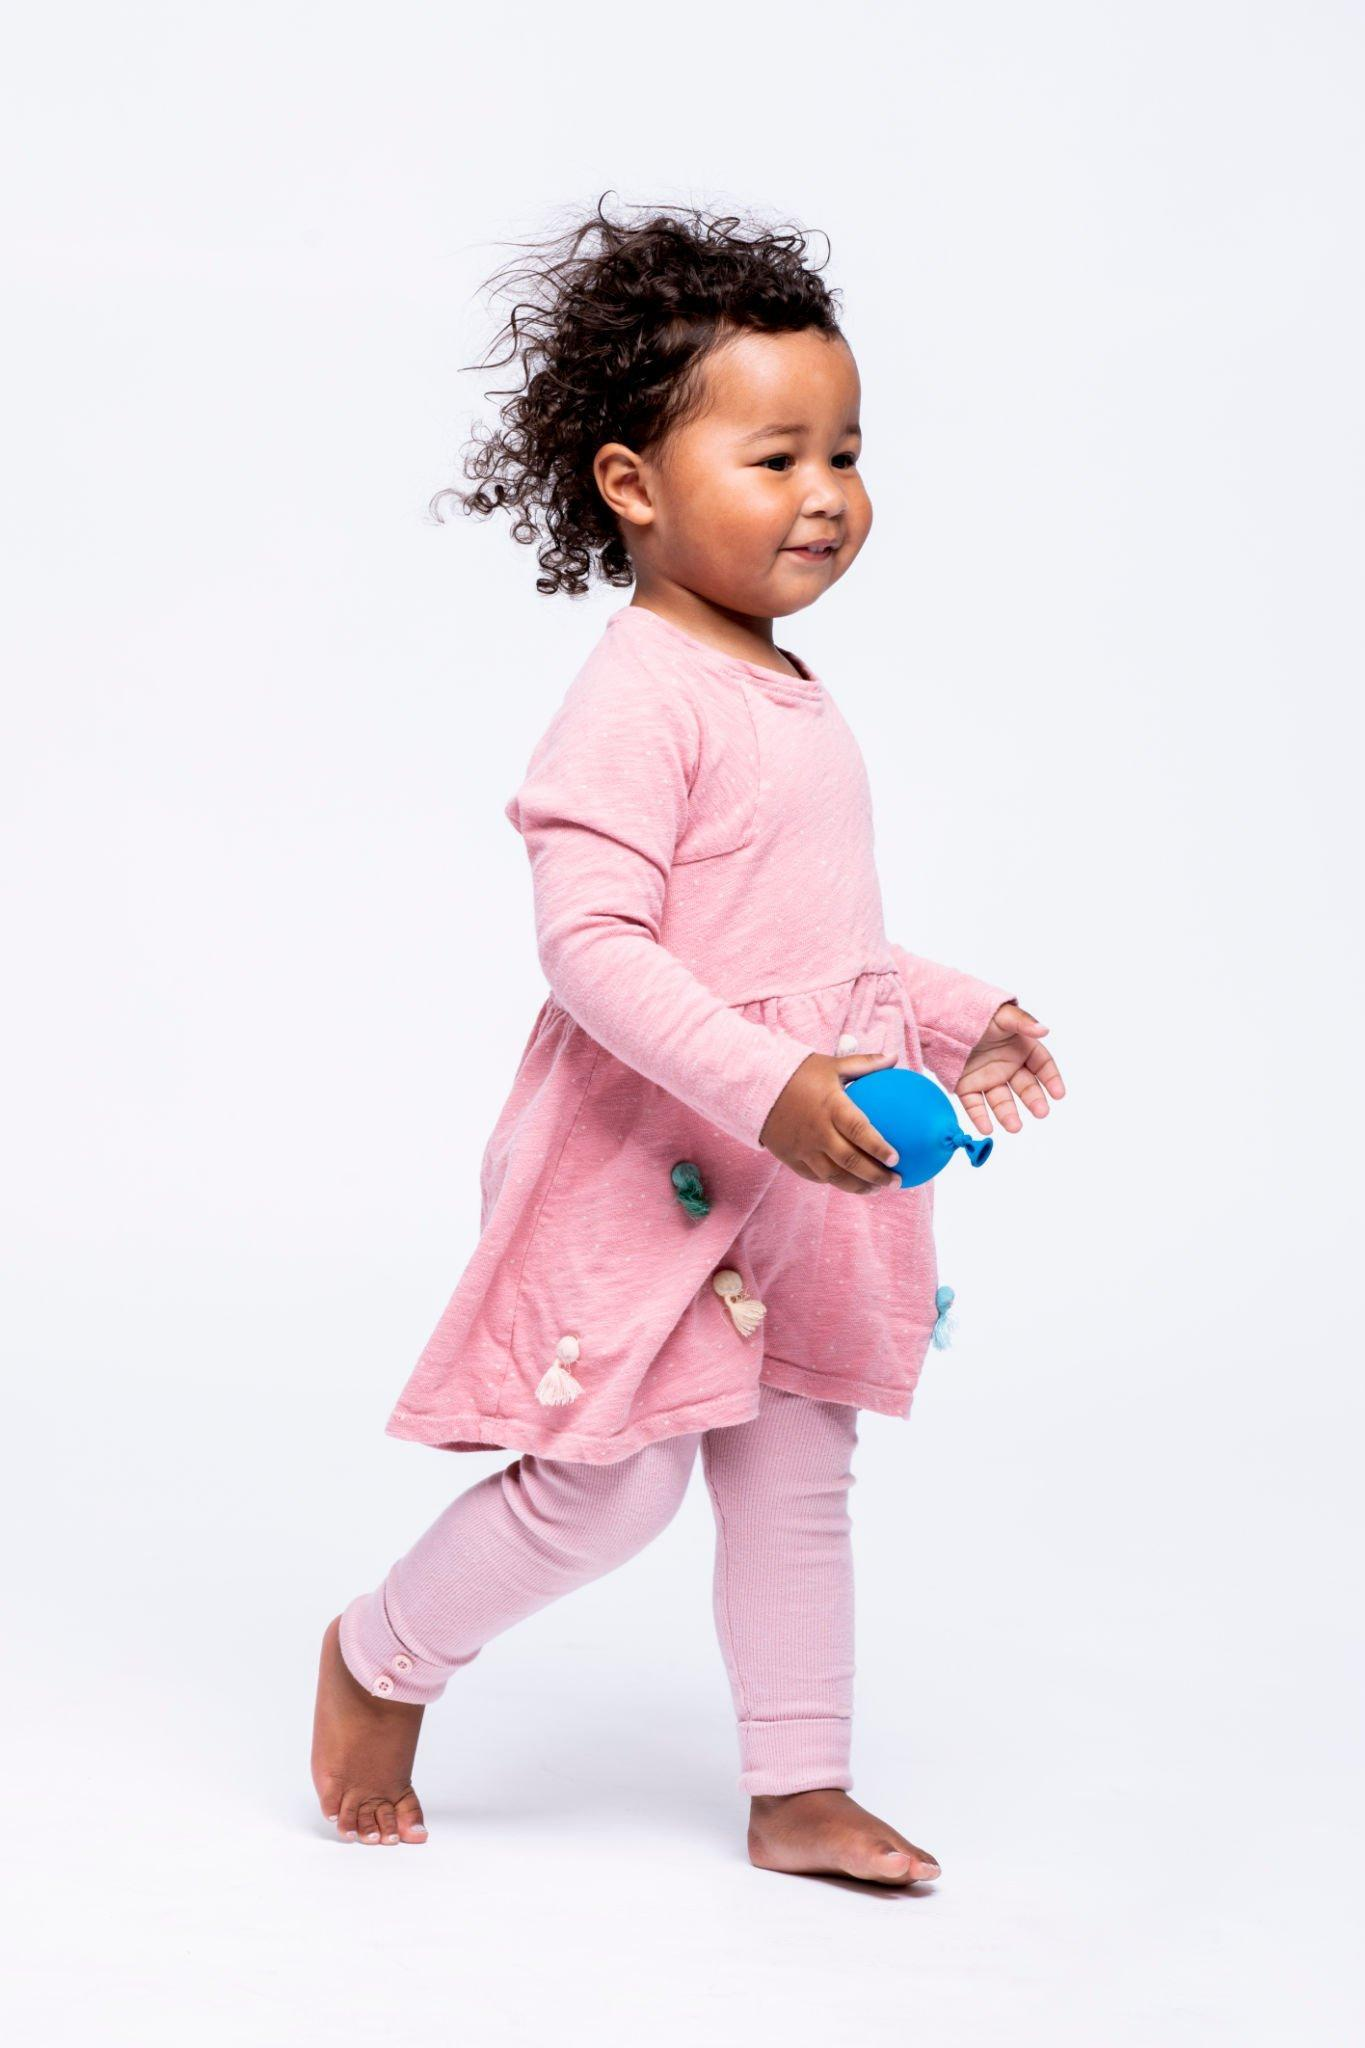Healthy: (587, 212, 972, 696)
